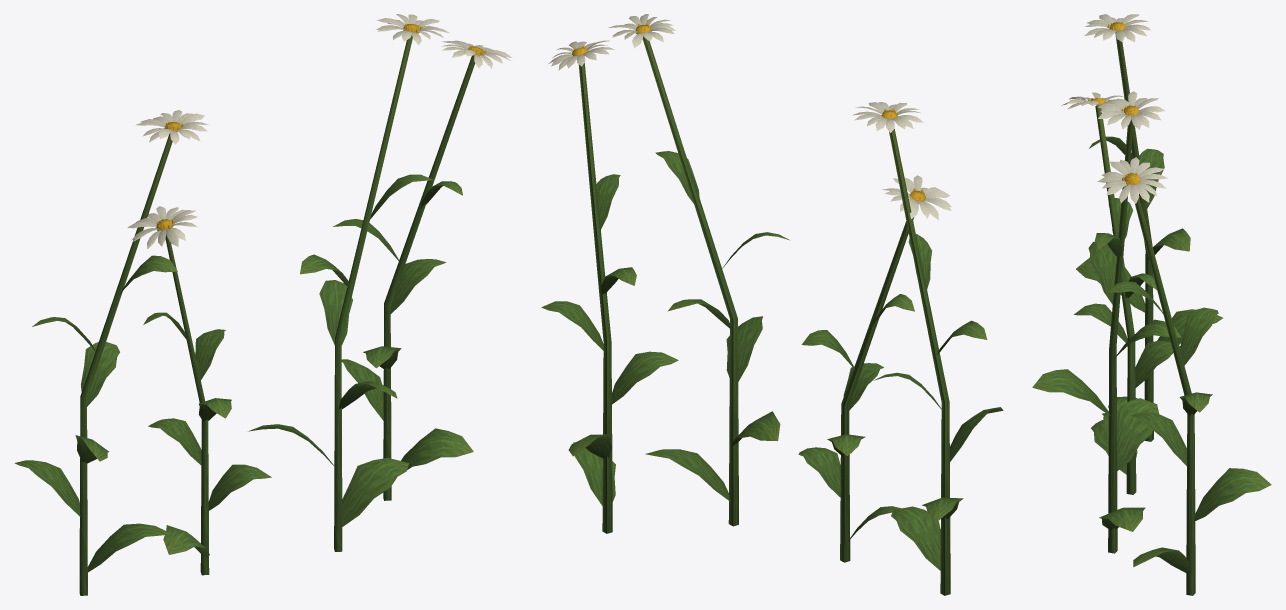
Rendered from OxeyeDaisy_A.fbx.
The picture shows the model from 3 angles, left to right: view 1: azimuth 30°, elevation 25°; view 2: azimuth 150°, elevation 25°; view 3: azimuth 270°, elevation 25°; orthographic projection. The views are drawn at different scales.
Visible parts, largest first — view 1: OxeyeDaisy_A_LOD0; view 2: OxeyeDaisy_A_LOD0; view 3: OxeyeDaisy_A_LOD0.
Part boxes in pixels (x1=…): OxeyeDaisy_A_LOD0: x1=14, y1=14, x2=511, y2=595; OxeyeDaisy_A_LOD0: x1=541, y1=14, x2=1003, y2=595; OxeyeDaisy_A_LOD0: x1=1032, y1=14, x2=1271, y2=595.
Size of what is drawn, in the model's own units: 26.96 by 27.93 by 12.47.
1 material, 1 textured.
